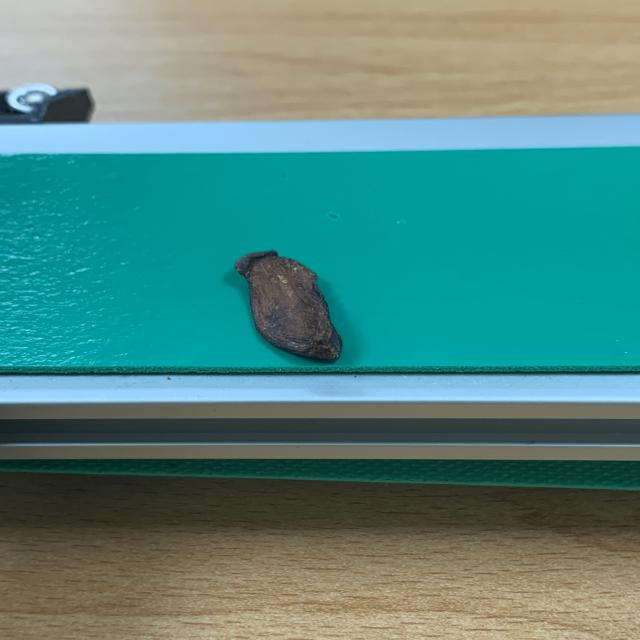Flat_cocoabeans: (152, 217, 416, 393)
